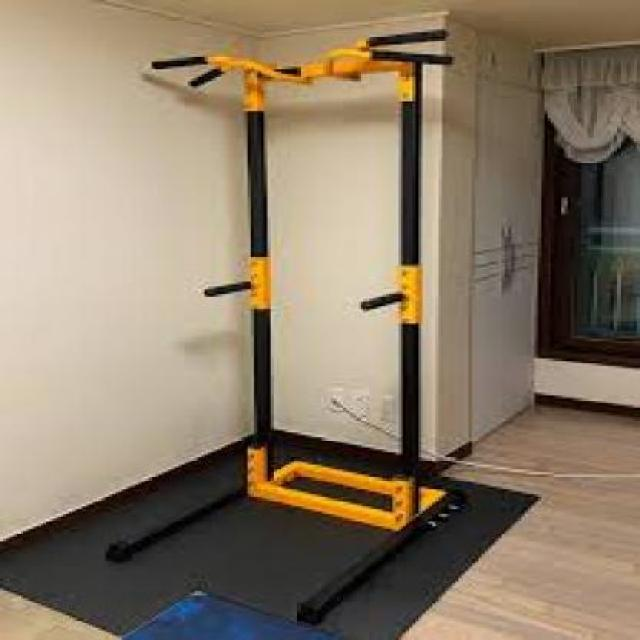chinning dipping: (110, 29, 476, 622)
